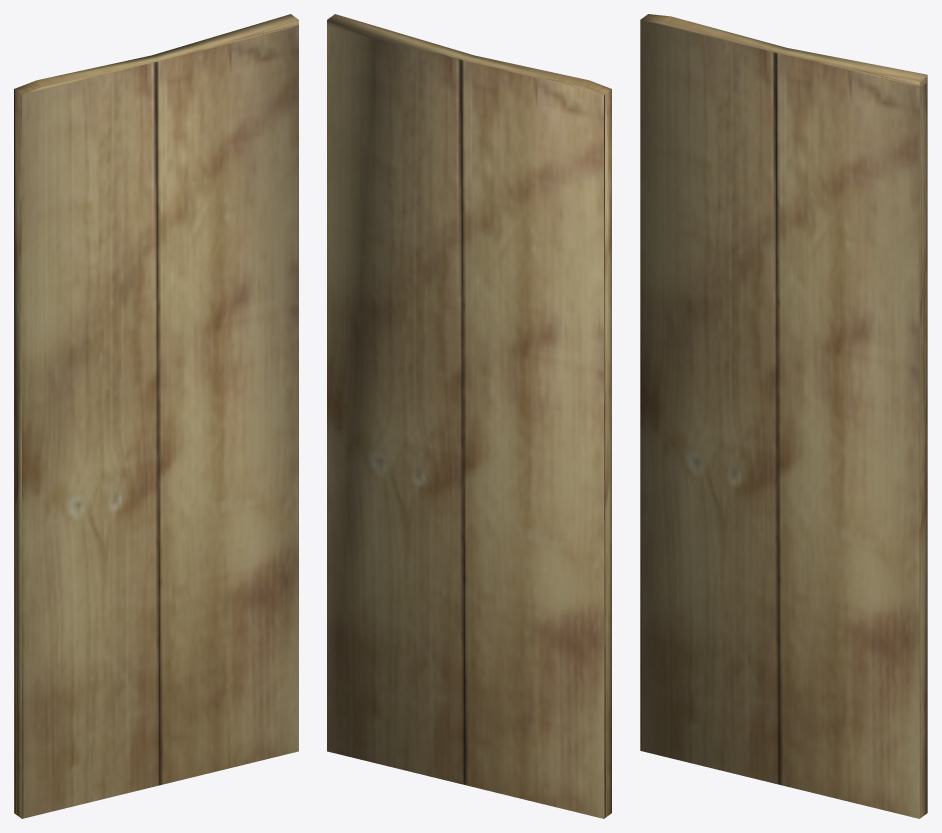
Rendered from fence_I.obj.
3 views of the same model, side by side, from view 1: azimuth 30°, elevation 25°; view 2: azimuth 150°, elevation 25°; view 3: azimuth 330°, elevation 25° (orthographic).
Bounding box in the file's own units: 2 × 5.05 × 0.1.
